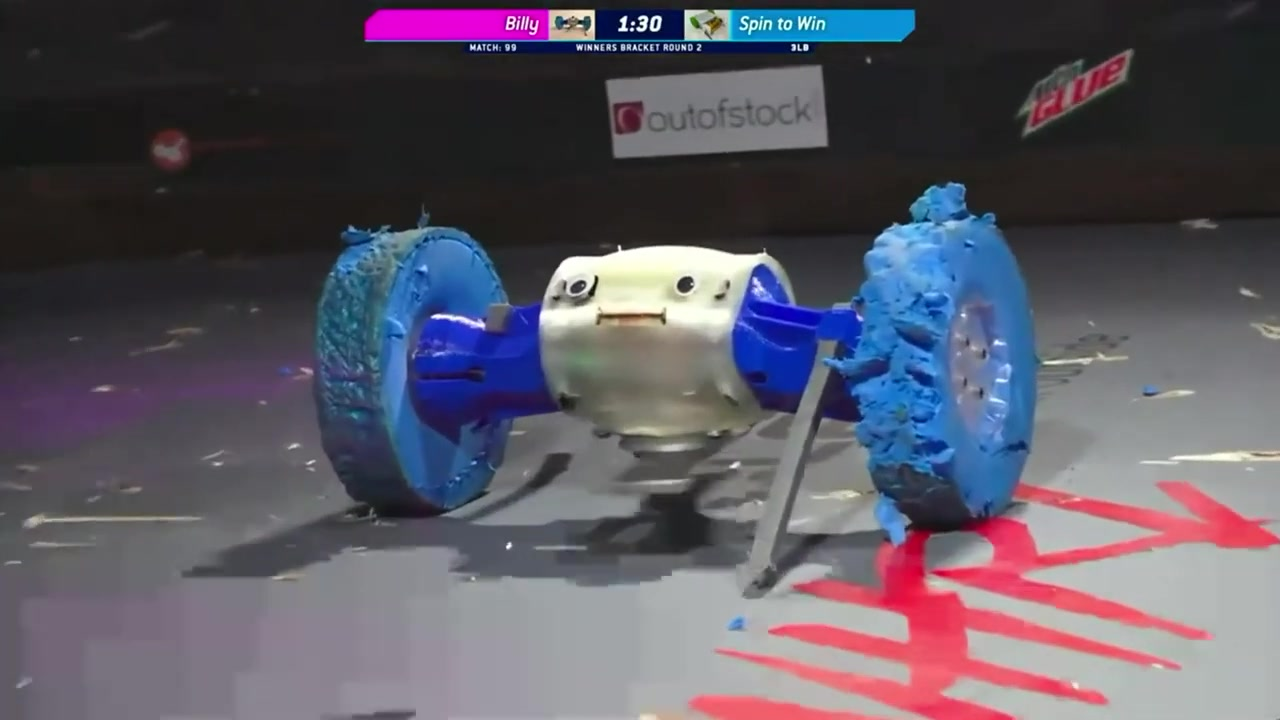combatbot: (307, 181, 1042, 600)
